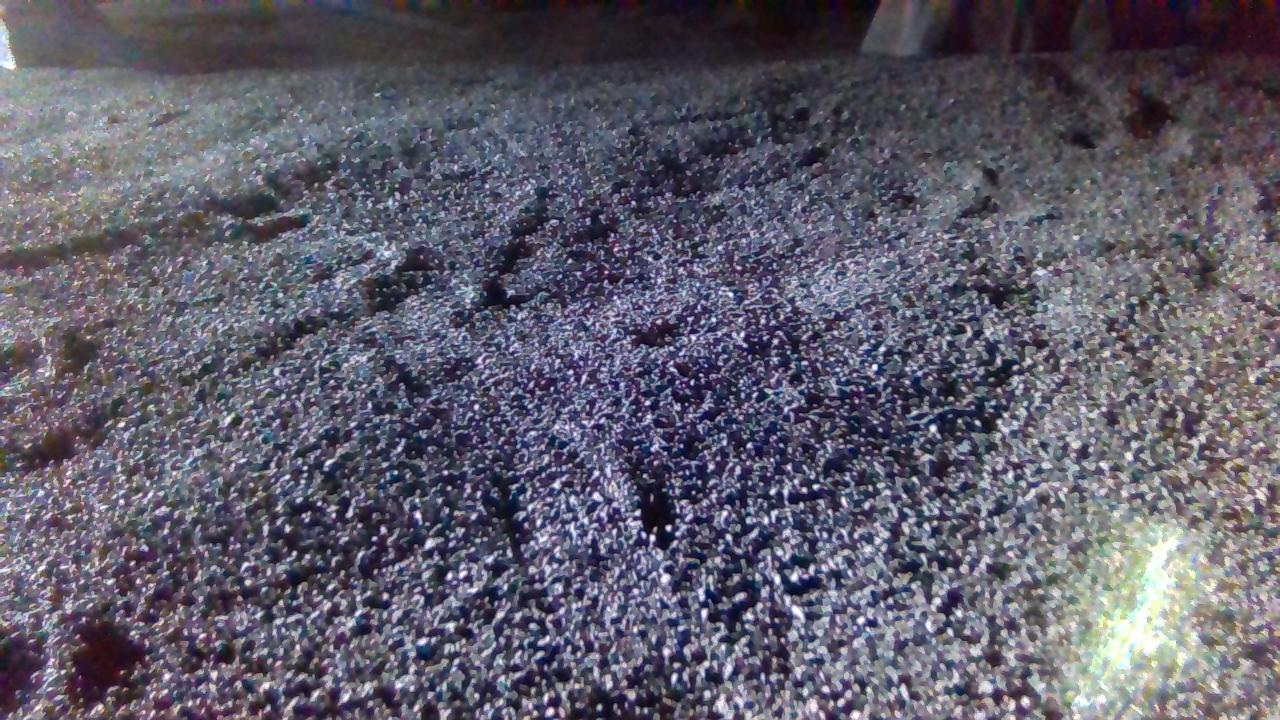rock: (863, 0, 1114, 55)
